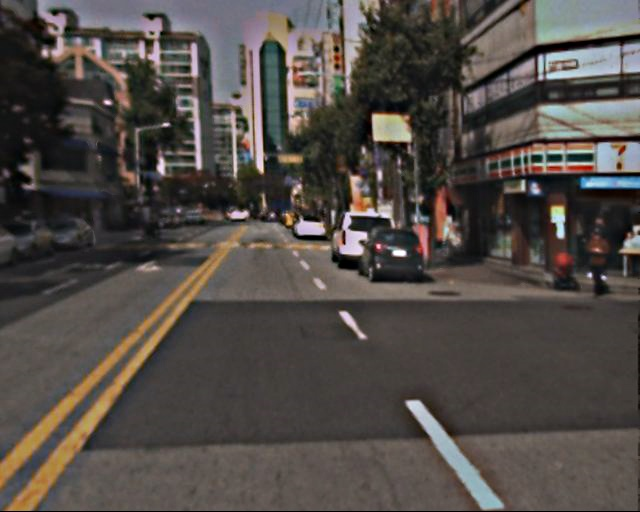person: (586, 225, 620, 300), (586, 216, 616, 279), (149, 214, 163, 243)
